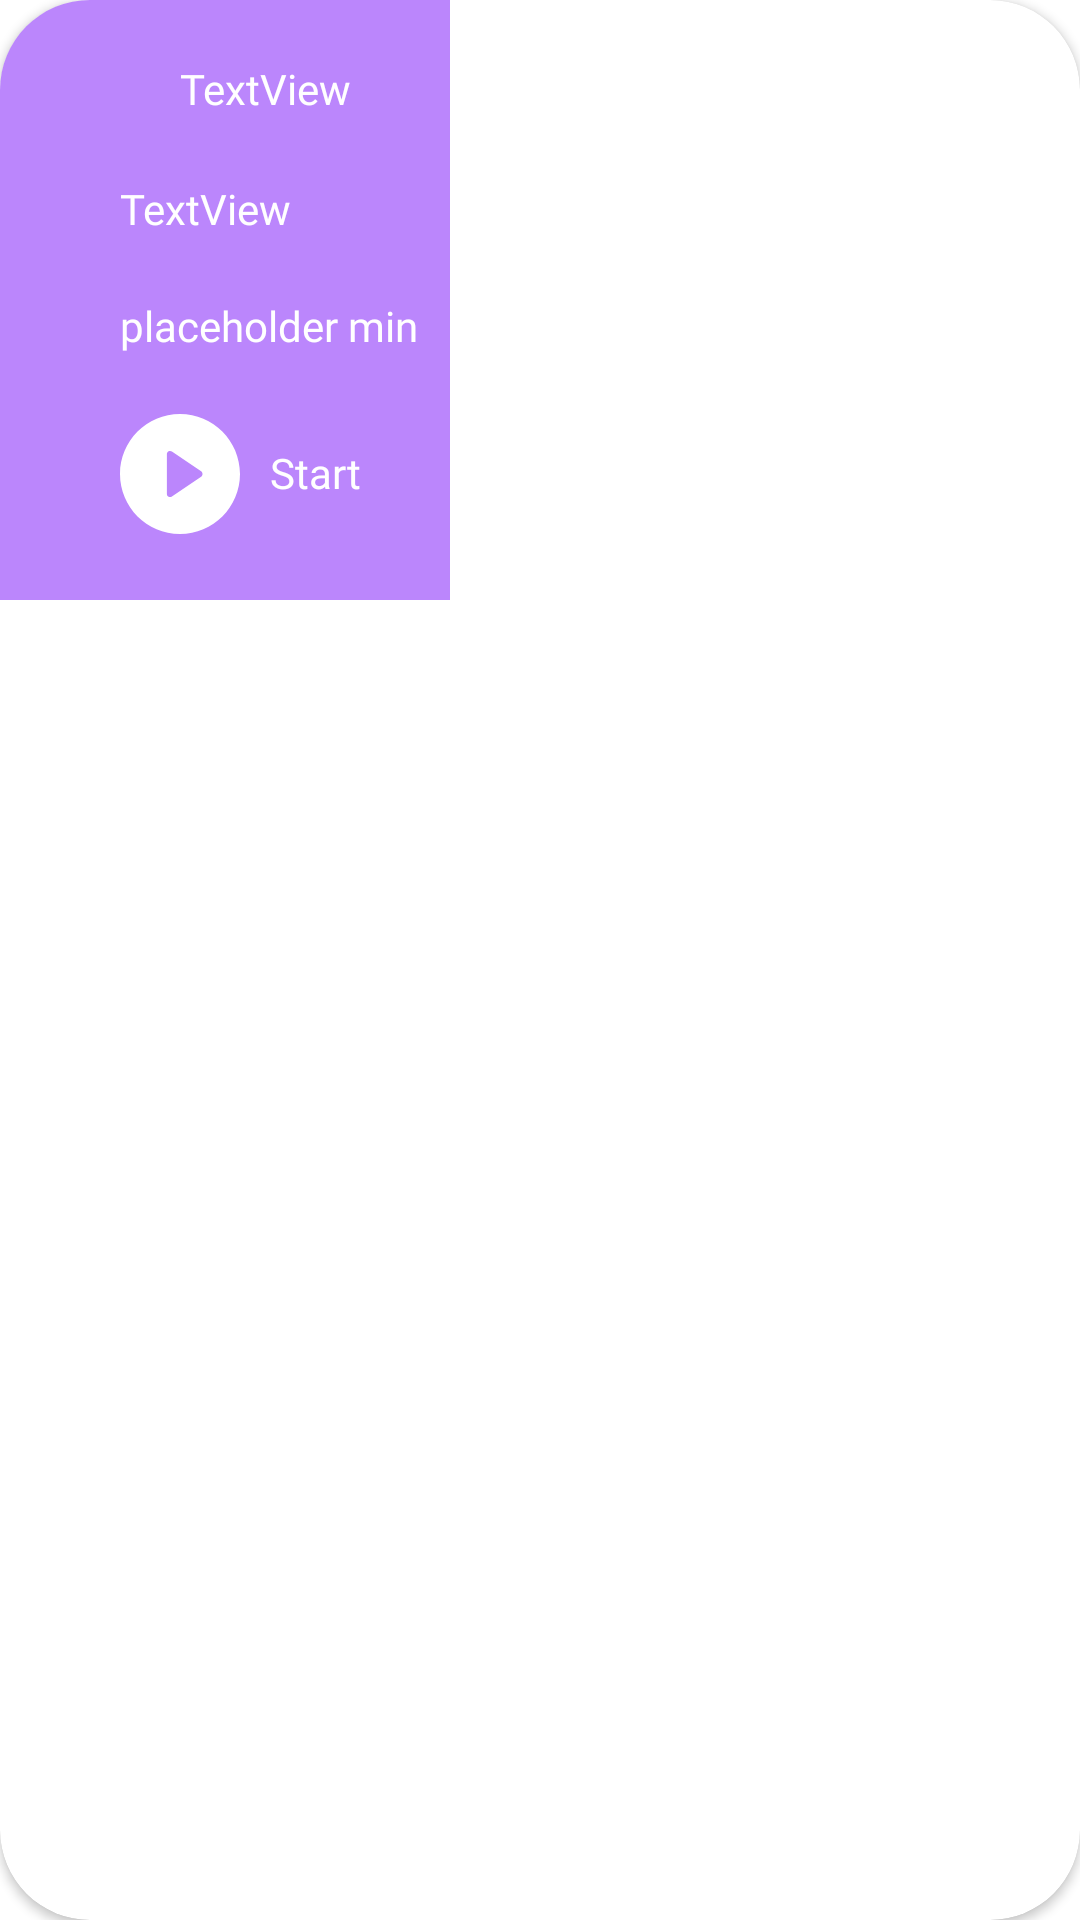

Where to tap for icons on this 1080 x 1920 app screen, as [x,y]:
play: [180,474]
